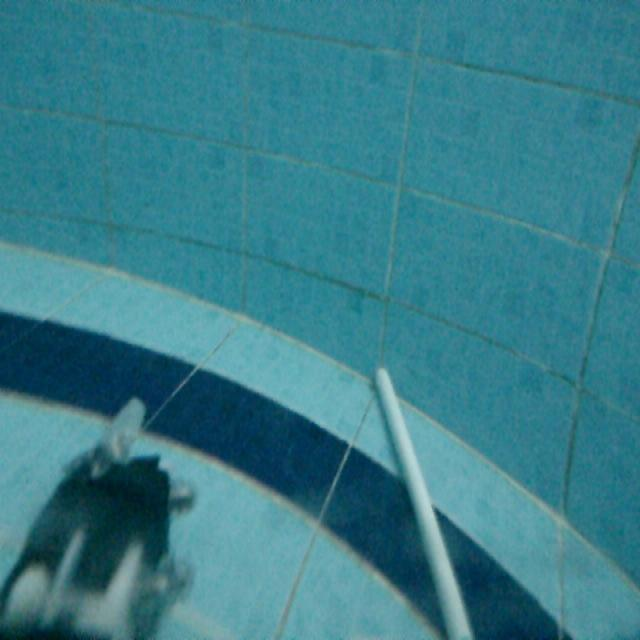Cube: (372, 366, 473, 640)
